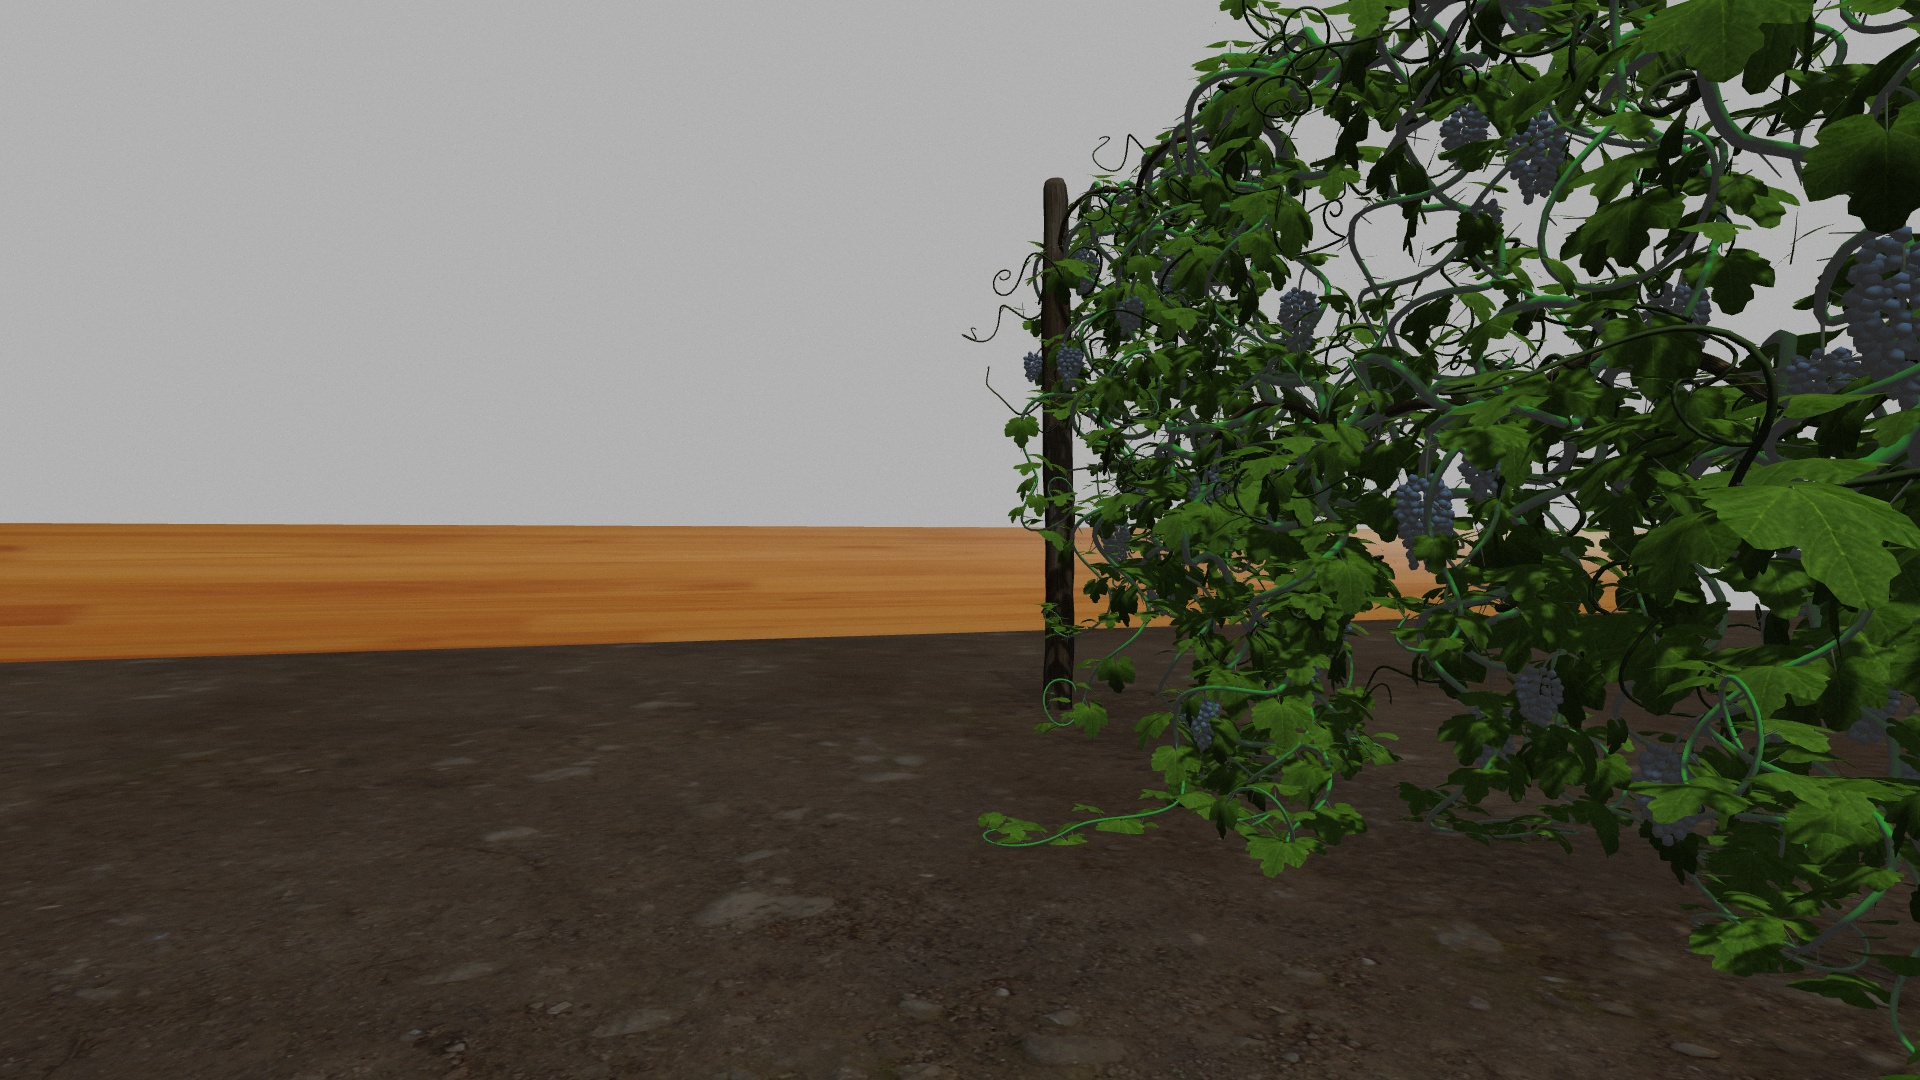grape: (1841, 225, 1916, 409), (1630, 740, 1706, 848), (1394, 472, 1457, 568), (1506, 113, 1568, 203), (1788, 349, 1859, 400), (1516, 667, 1564, 731), (1440, 103, 1490, 156), (1278, 285, 1316, 352), (1192, 698, 1224, 750), (1073, 248, 1101, 299), (1055, 342, 1084, 390), (1116, 293, 1145, 335), (1101, 526, 1130, 568), (1025, 351, 1043, 382)
